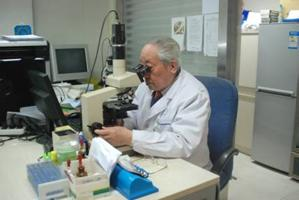person: (95, 36, 215, 172)
